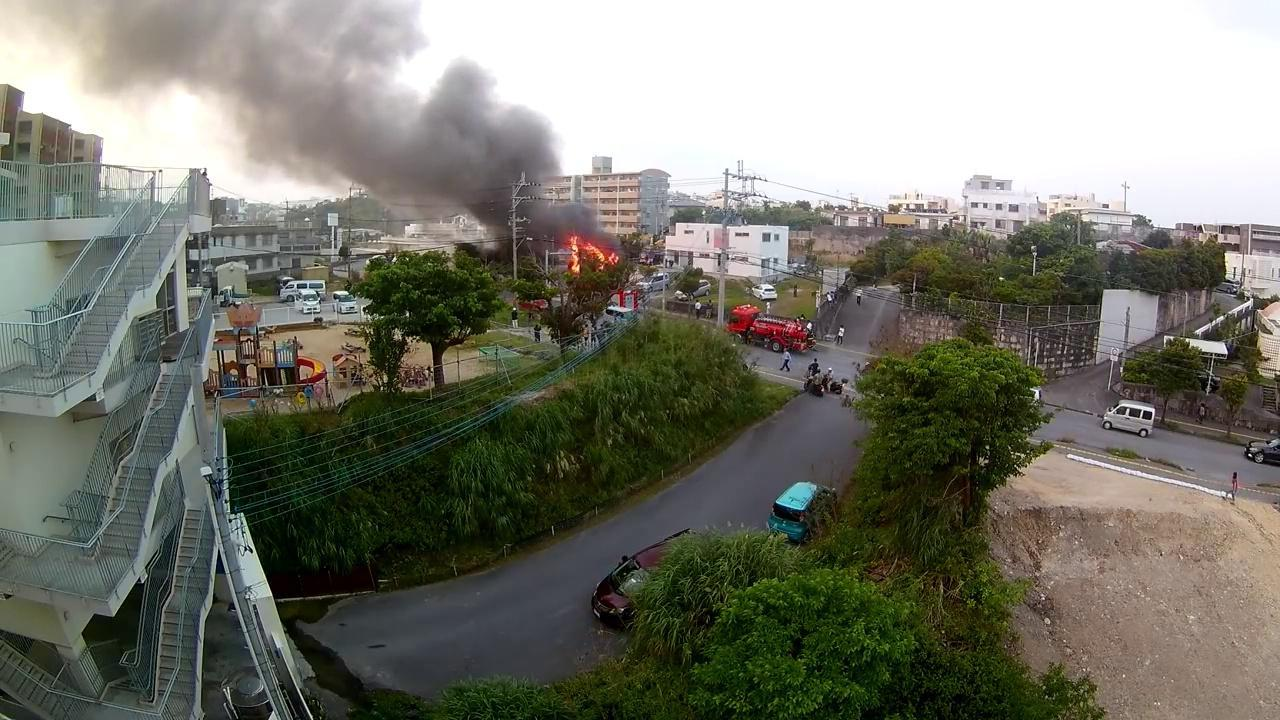Fire: (566, 235, 621, 272)
